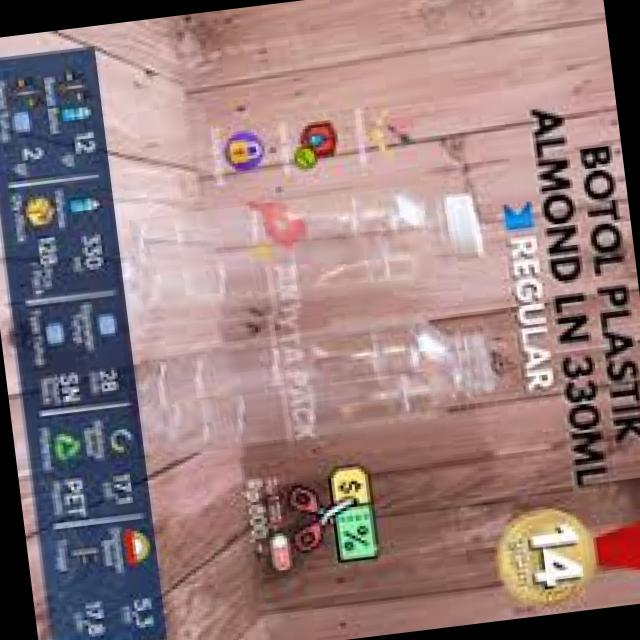plastic bottle: (126, 178, 492, 344), (138, 313, 508, 470)
